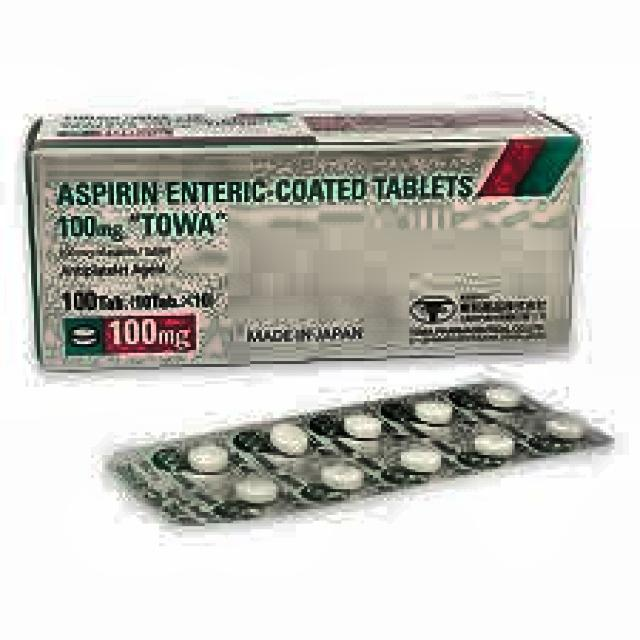Aspirin: (33, 148, 577, 358)
